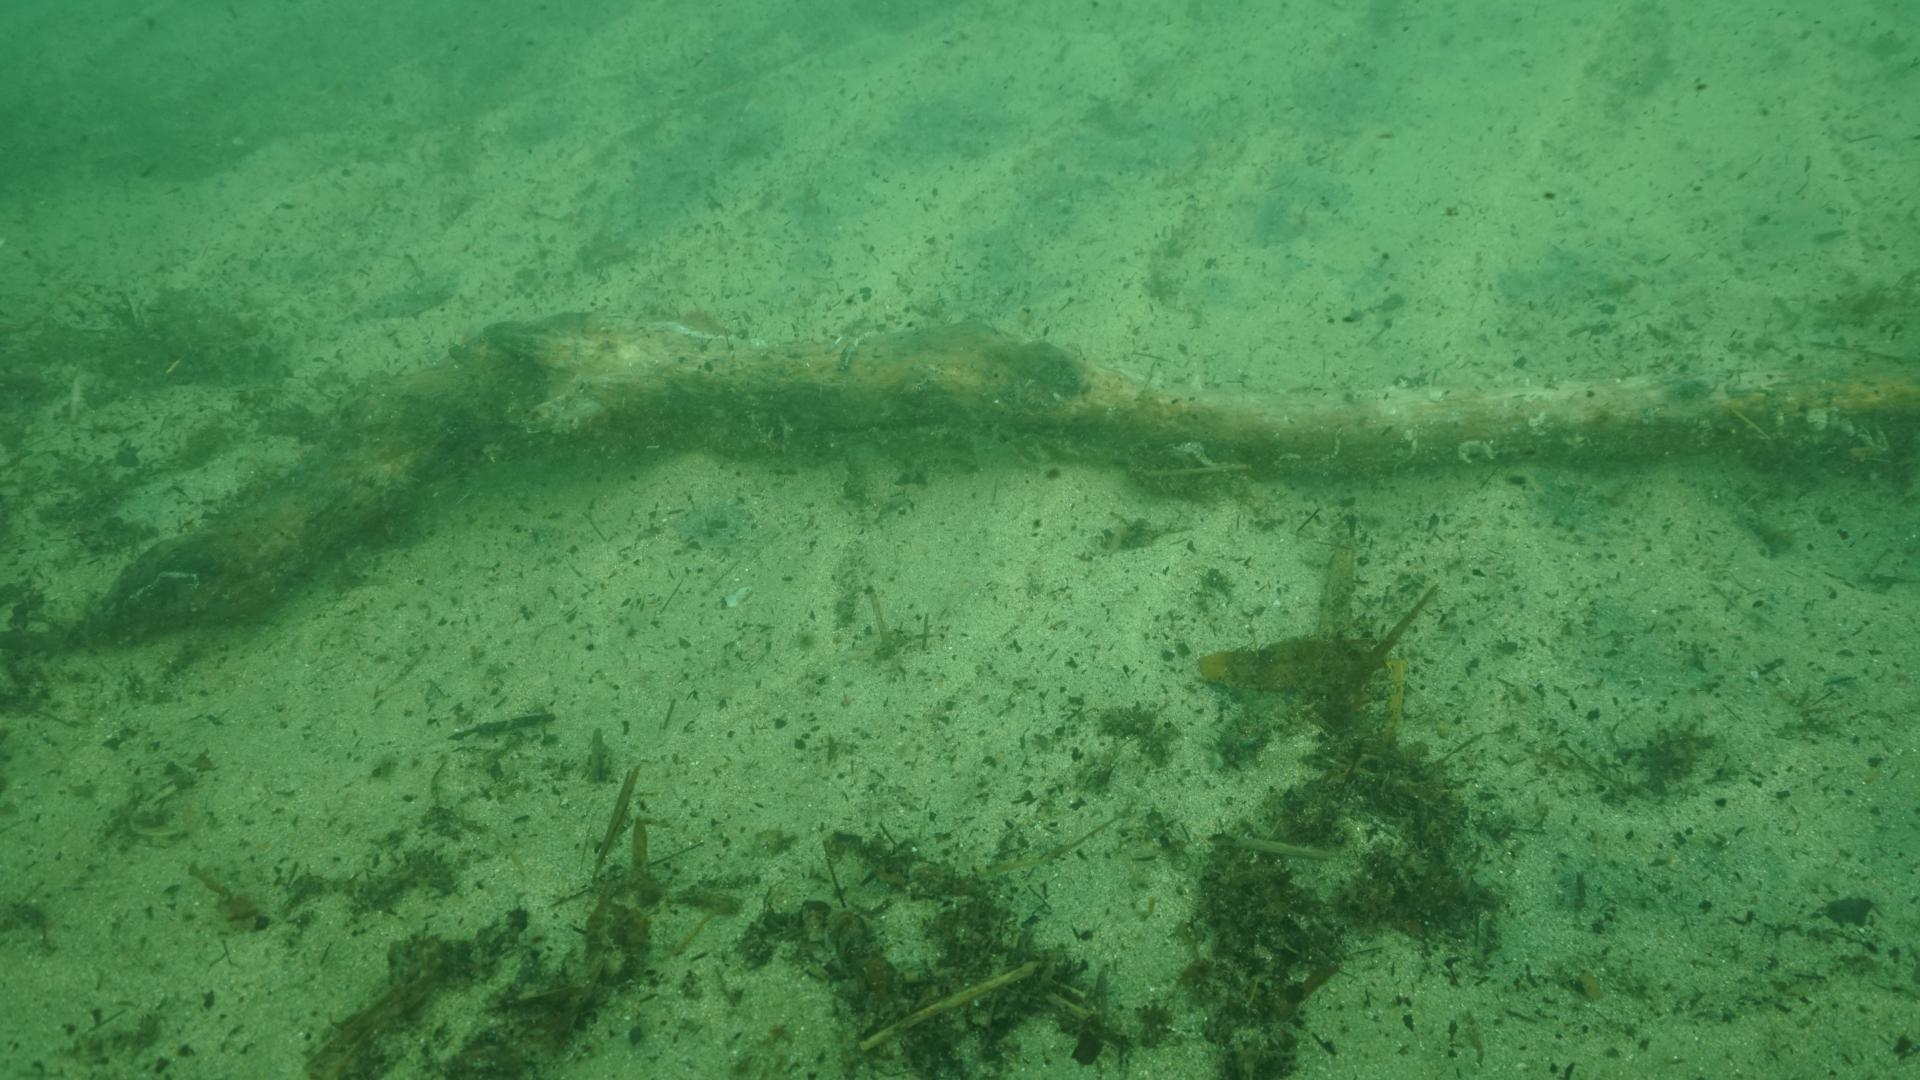wood: (483, 309, 1920, 477)
